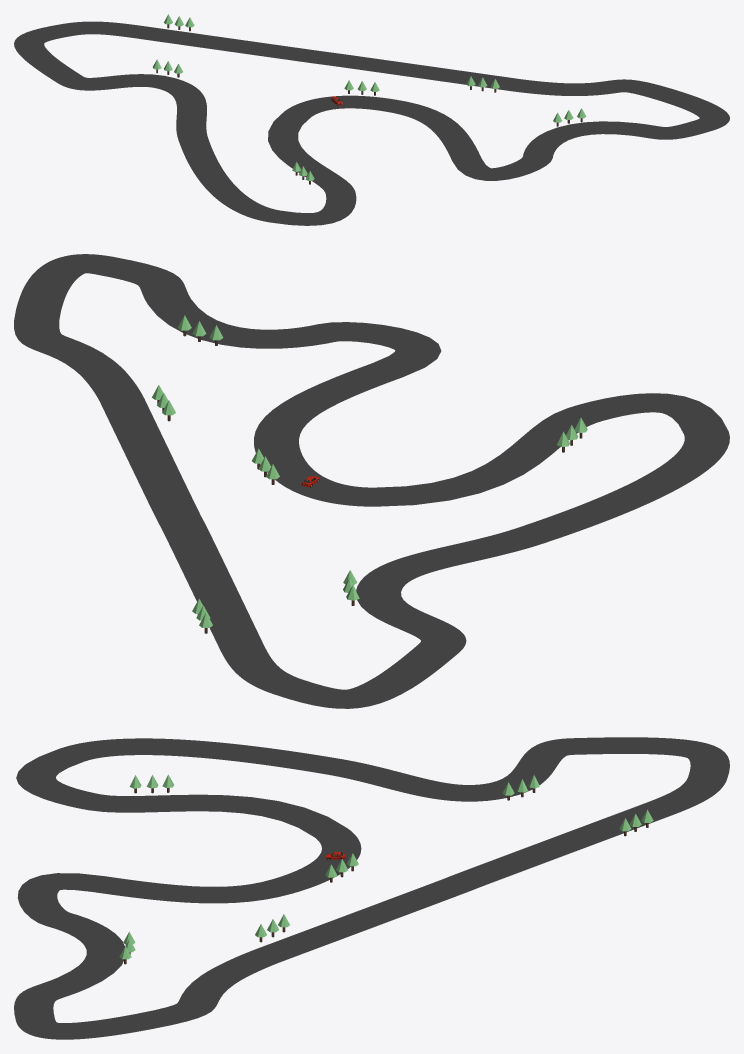
File: track_1.glb
The picture shows the model from 3 angles, top to bottom: view 1: azimuth 30°, elevation 25°; view 2: azimuth 150°, elevation 25°; view 3: azimuth 270°, elevation 25°; orthographic projection. The views are drawn at different scales.
Parts seen in each view (by area): view 1: Curve; view 2: Curve; view 3: Curve.
Part boxes in pixels (<box>): Curve: <box>14,21,729,225</box>; Curve: <box>14,254,729,708</box>; Curve: <box>14,737,729,1039</box>.
Size of what is drawn, in the model's own units: 114 by 3.19 by 115.
